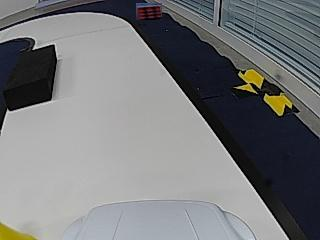block: (4, 44, 57, 110)
